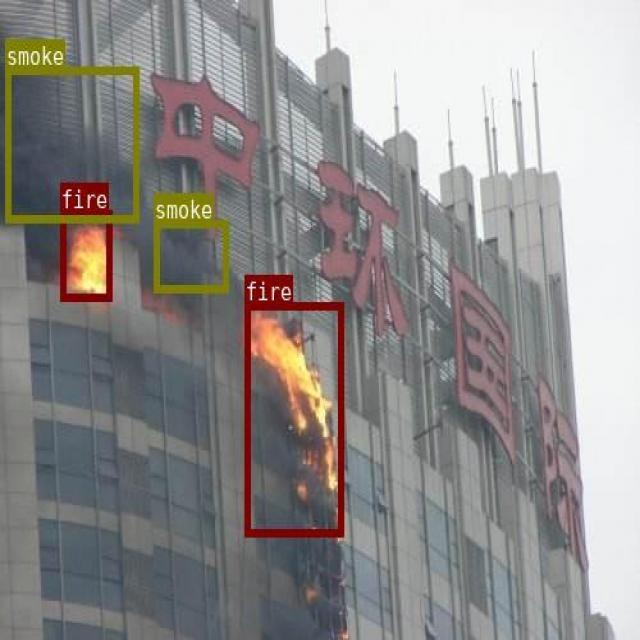fire: (244, 302, 342, 536), (59, 210, 111, 300)
smoke: (5, 66, 138, 222), (153, 220, 227, 292)
